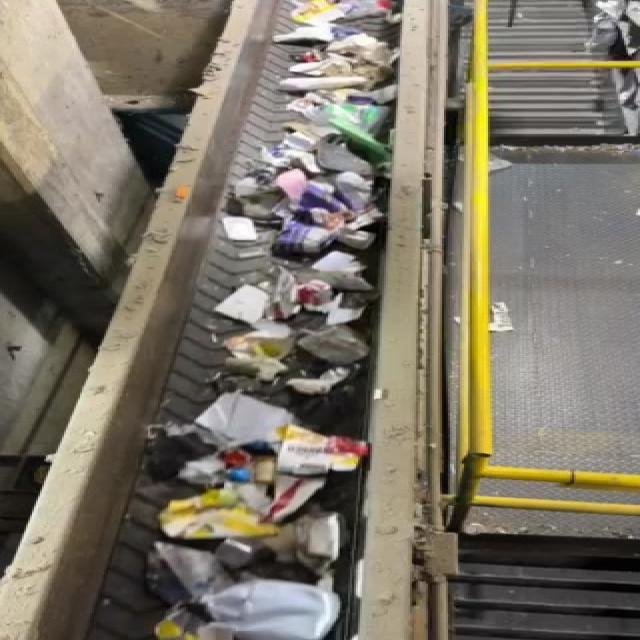paper: (152, 494, 284, 543), (264, 420, 366, 478)
pp: (178, 578, 342, 636), (303, 508, 362, 569)
